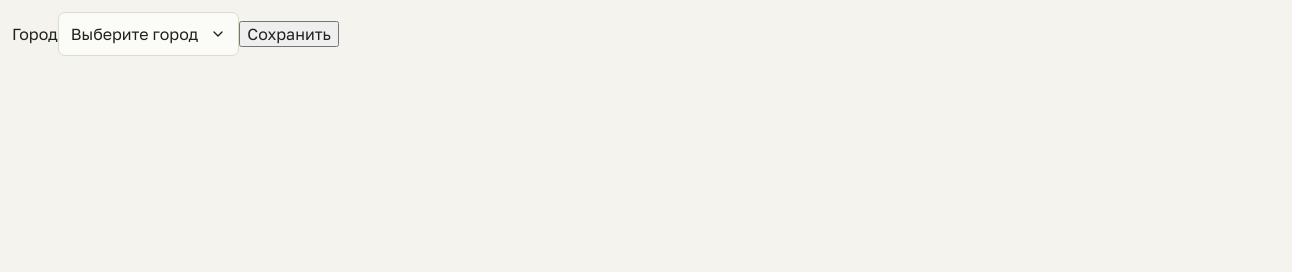
Test case: opens on one click, chooses an option, closes outside and reopens
Click the dropdown labelled "город".
click(149, 34)  # box [58,12,239,56]
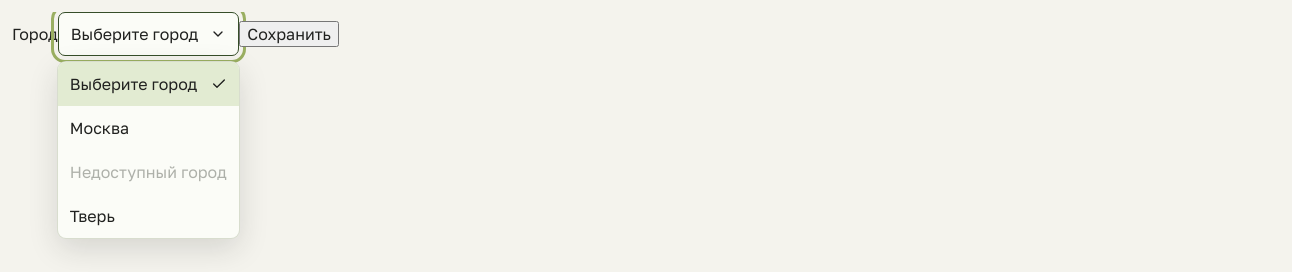
Click the option "Москва".
click(100, 128)  # box [70,118,129,138]
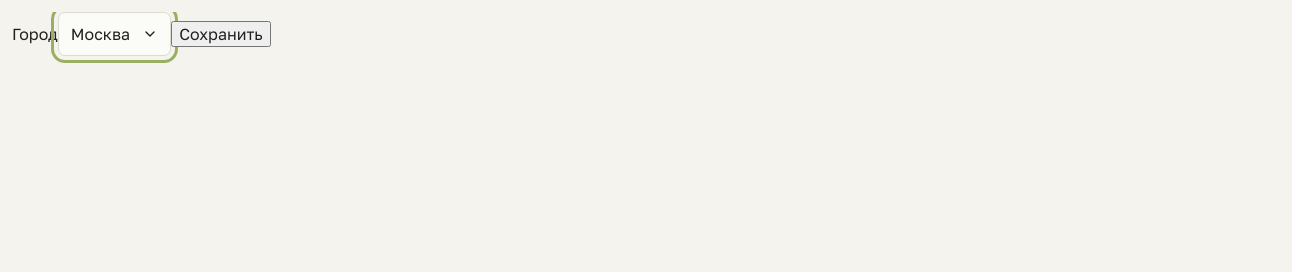
Now the dropdown named "Город" reads "Москва"
Now the list is gone
Click the dropdown named "Город".
click(114, 34)  # box [58,12,171,56]
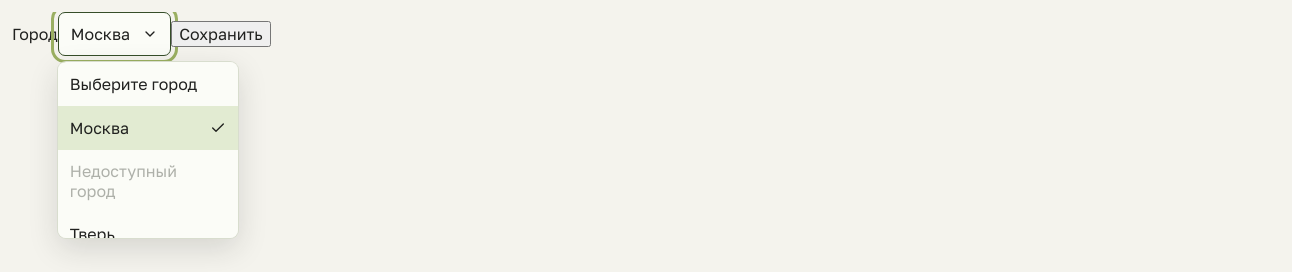
Click the element that starts with "Город".
click(35, 34)  # box [12,12,1291,56]
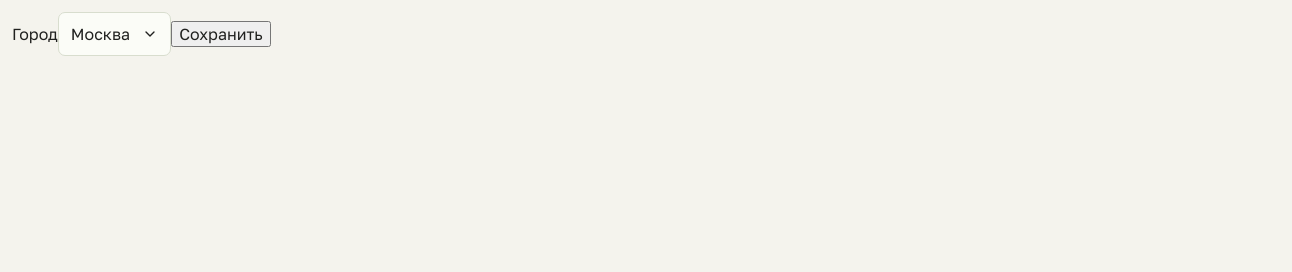
Click the dropdown named "Город".
click(114, 34)  # box [58,12,171,56]
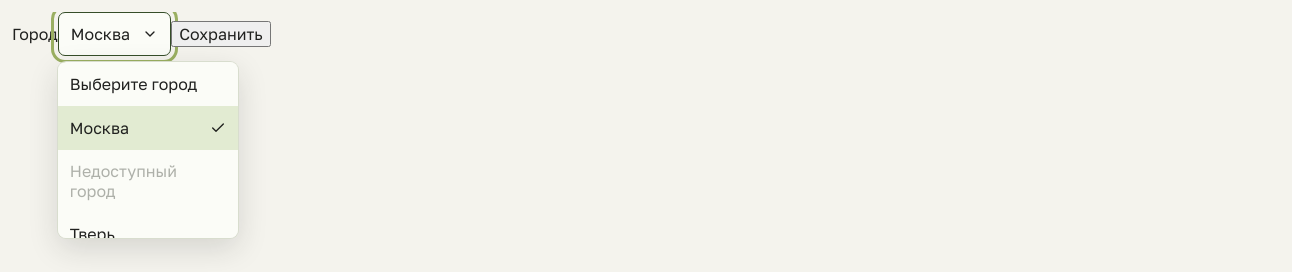
Now the list is shown, box [58,62,238,238]
